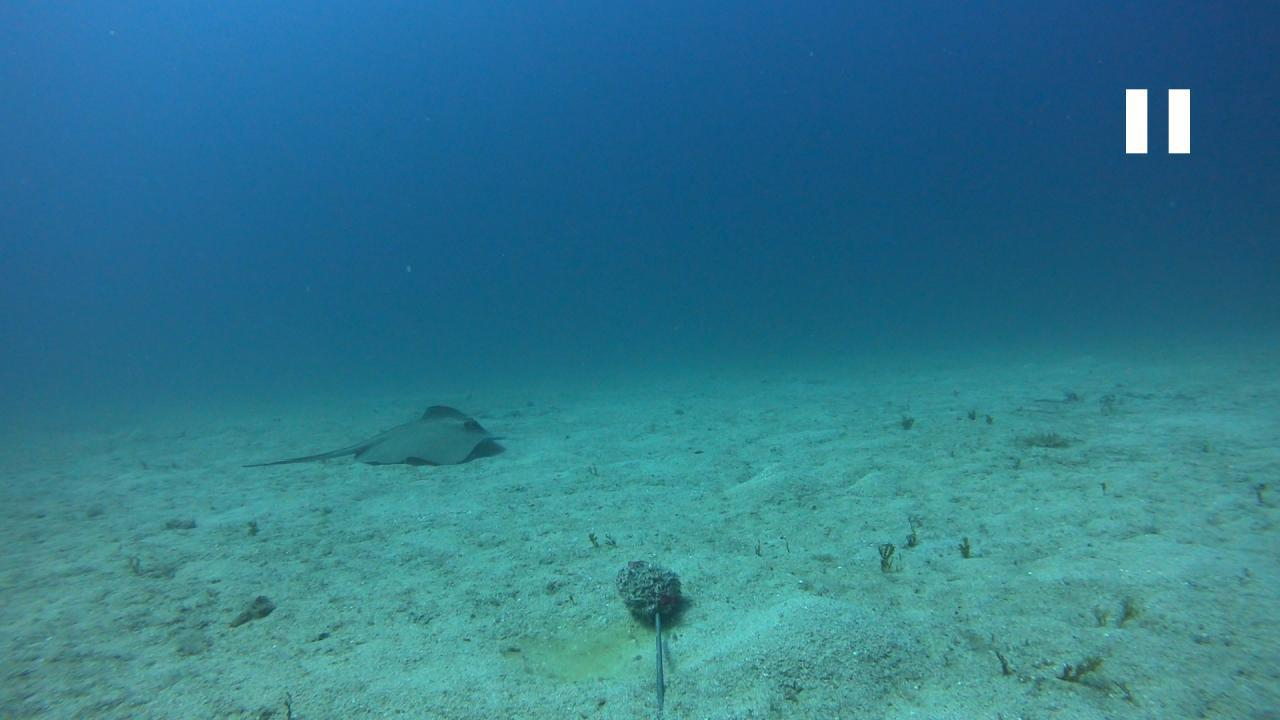bothus: (1020, 432, 1075, 448)
dasyatis: (239, 404, 507, 469)
